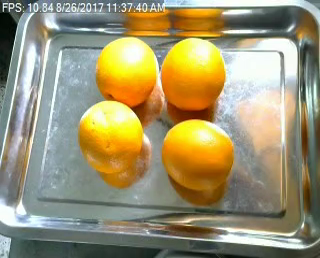Orange: (163, 117, 235, 190), (161, 37, 226, 110), (78, 101, 143, 173), (93, 36, 157, 105)
